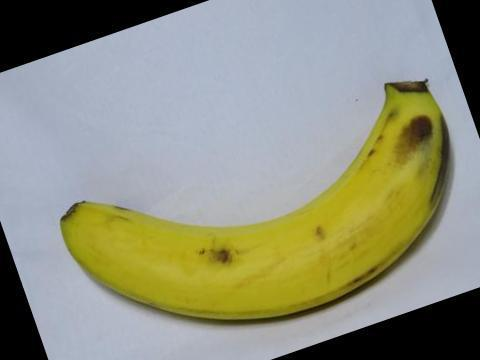freshripe: (41, 61, 468, 345)
